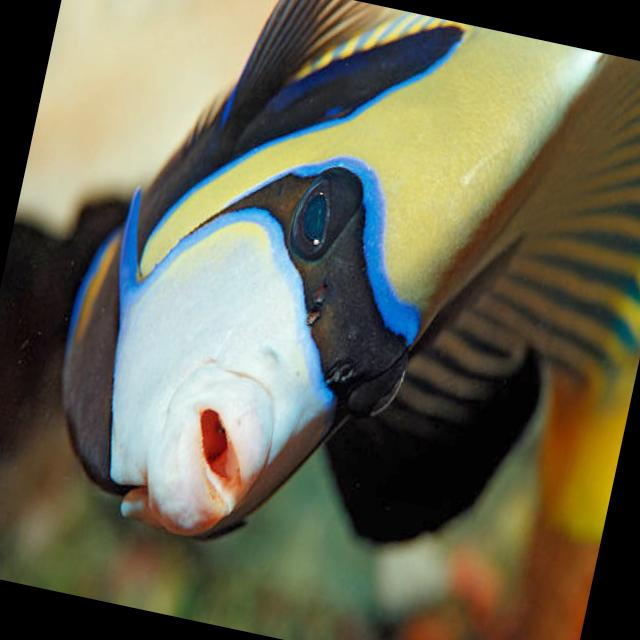AngelFish: (33, 0, 640, 618)
